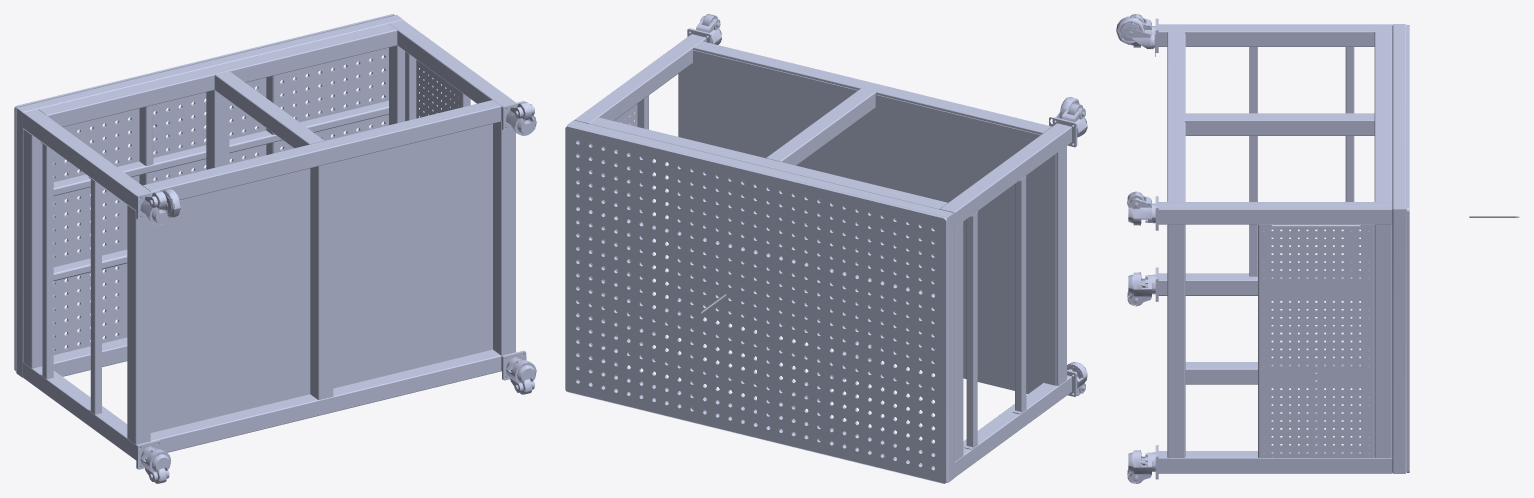
Rendered from Table.fbx.
3 renders of one model, left to right at view 1: azimuth 30°, elevation 25°; view 2: azimuth 150°, elevation 25°; view 3: azimuth 270°, elevation 25°, orthographic.
Visible parts, largest first — view 1: Part2^Welding Table, Copy of HPC - LWH35-2960^Welding Table, Table Frame_Default<As Machined>007, Table Frame_Default<As Machined>005, Table Frame_Default<As Machined>009, Table Frame_Default<As Machined>013, Table Frame_Default<As Machined>004, Table Frame_Default<As Machined>006, Table Frame_Default<As Machined>008, Part1^Welding Table_Default<As Machined>005, Table Frame_Default<As Machined>001, Table Frame_Default<As Machined>002 (+17 smaller); view 2: Copy of HPC - LWH35-2960^Welding Table, Part2^Welding Table, Table Frame_Default<As Machined>005, Table Frame_Default<As Machined>001, Table Frame_Default<As Machined>009, Table Frame_Default<As Machined>002, Part1^Welding Table_Default<As Machined>003, Table Frame_Default<As Machined>, Table Frame_Default<As Machined>018, Copy of Part6^Welding Table_Default<As Machined>012, Copy of Part6^Welding Table_Default<As Machined>008, Table Frame_Default<As Machined>004 (+4 smaller); view 3: Part10^Welding Table, Table Frame_Default<As Machined>002, Table Frame_Default<As Machined>001, Table Frame_Default<As Machined>003, Table Frame_Default<As Machined>010, Table Frame_Default<As Machined>018, Table Frame_Default<As Machined>006, Part1^Welding Table_Default<As Machined>002, Table Frame_Default<As Machined>009, Table Frame_Default<As Machined>005, Part1^Welding Table_Default<As Machined>003, Table Frame_Default<As Machined> (+8 smaller).
Boxes of the visible parts, x1=… form: Part2^Welding Table: x1=150, y1=124, x2=492, y2=432; Copy of HPC - LWH35-2960^Welding Table: x1=14, y1=14, x2=394, y2=371; Table Frame_Default<As Machined>007: x1=150, y1=349, x2=501, y2=452; Table Frame_Default<As Machined>005: x1=142, y1=100, x2=501, y2=199; Table Frame_Default<As Machined>009: x1=38, y1=24, x2=397, y2=126; Table Frame_Default<As Machined>013: x1=310, y1=163, x2=333, y2=399; Table Frame_Default<As Machined>004: x1=127, y1=205, x2=150, y2=444; Table Frame_Default<As Machined>006: x1=493, y1=121, x2=515, y2=355; Table Frame_Default<As Machined>008: x1=23, y1=128, x2=42, y2=368; Part1^Welding Table_Default<As Machined>005: x1=53, y1=100, x2=388, y2=195; Table Frame_Default<As Machined>001: x1=23, y1=109, x2=150, y2=210; Table Frame_Default<As Machined>002: x1=389, y1=20, x2=515, y2=121; Copy of HPC - LWH35-2960^Welding Table: x1=565, y1=125, x2=947, y2=483; Part2^Welding Table: x1=680, y1=50, x2=1056, y2=392; Table Frame_Default<As Machined>005: x1=693, y1=41, x2=1051, y2=134; Table Frame_Default<As Machined>001: x1=939, y1=123, x2=1071, y2=228; Table Frame_Default<As Machined>009: x1=589, y1=117, x2=947, y2=209; Table Frame_Default<As Machined>002: x1=574, y1=34, x2=706, y2=123; Part1^Welding Table_Default<As Machined>003: x1=567, y1=120, x2=953, y2=219; Table Frame_Default<As Machined>: x1=954, y1=375, x2=1071, y2=477; Table Frame_Default<As Machined>018: x1=766, y1=88, x2=875, y2=165; Copy of Part6^Welding Table_Default<As Machined>012: x1=1015, y1=177, x2=1026, y2=411; Copy of Part6^Welding Table_Default<As Machined>008: x1=966, y1=213, x2=977, y2=447; Table Frame_Default<As Machined>004: x1=1056, y1=146, x2=1066, y2=385; Part10^Welding Table: x1=1258, y1=224, x2=1374, y2=457; Table Frame_Default<As Machined>002: x1=1158, y1=202, x2=1392, y2=224; Table Frame_Default<As Machined>001: x1=1158, y1=24, x2=1392, y2=46; Table Frame_Default<As Machined>003: x1=1158, y1=451, x2=1392, y2=473; Table Frame_Default<As Machined>010: x1=1374, y1=224, x2=1392, y2=457; Table Frame_Default<As Machined>018: x1=1185, y1=113, x2=1374, y2=135; Table Frame_Default<As Machined>006: x1=1167, y1=224, x2=1184, y2=457; Part1^Welding Table_Default<As Machined>002: x1=1392, y1=209, x2=1406, y2=473; Table Frame_Default<As Machined>009: x1=1374, y1=31, x2=1392, y2=201; Table Frame_Default<As Machined>005: x1=1167, y1=31, x2=1184, y2=201; Part1^Welding Table_Default<As Machined>003: x1=1392, y1=24, x2=1406, y2=209; Table Frame_Default<As Machined>: x1=1158, y1=273, x2=1360, y2=295.
Size of the model in its own units: 153 by 110 by 138.
